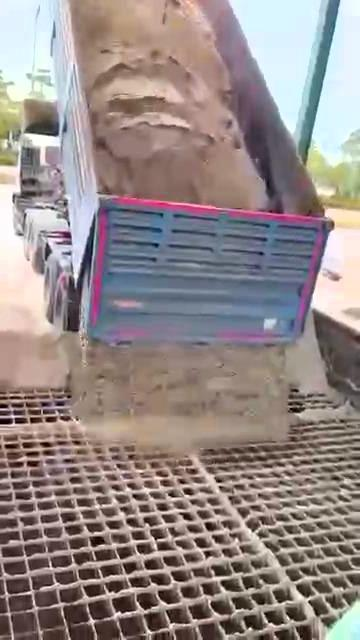sand: (55, 330, 356, 639), (70, 0, 265, 209), (1, 324, 68, 390), (288, 312, 330, 392)
